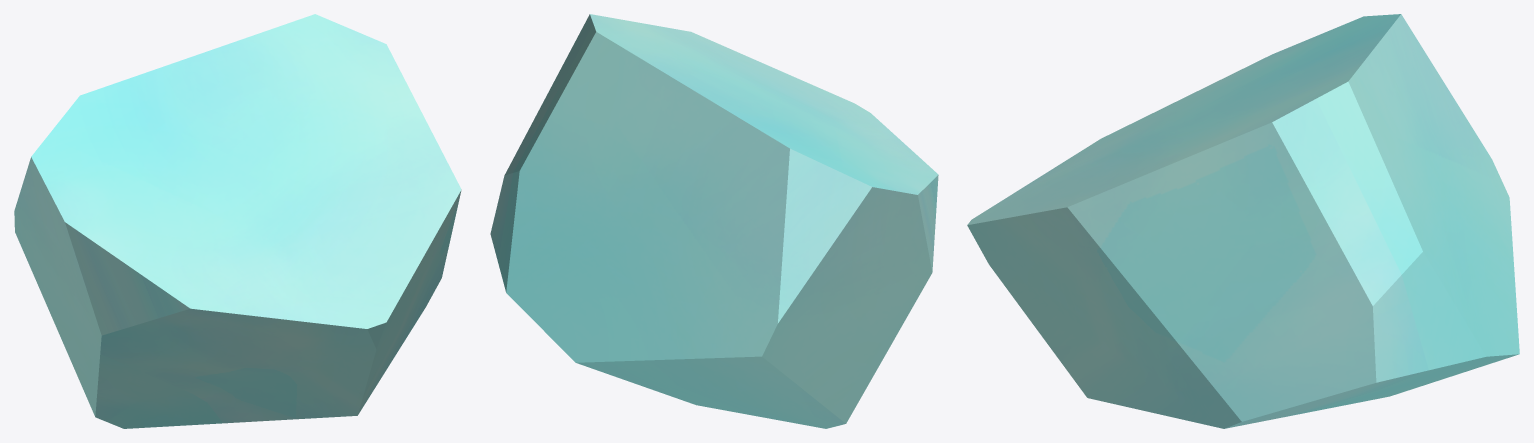
Rendered from rock.fbx.
The picture shows the model from 3 angles, left to right: view 1: azimuth 30°, elevation 25°; view 2: azimuth 150°, elevation 25°; view 3: azimuth 270°, elevation 25°; orthographic projection. The views are drawn at different scales.
Visible parts, largest first — view 1: rock; view 2: rock; view 3: rock.
Boxes of the visible parts, x1,y1,x2,y2 form: rock: (14, 14, 461, 428); rock: (490, 14, 938, 428); rock: (967, 14, 1519, 428).
Bounding box in the file's own units: 75.85 × 67.97 × 82.61.
1 material, 1 textured.
